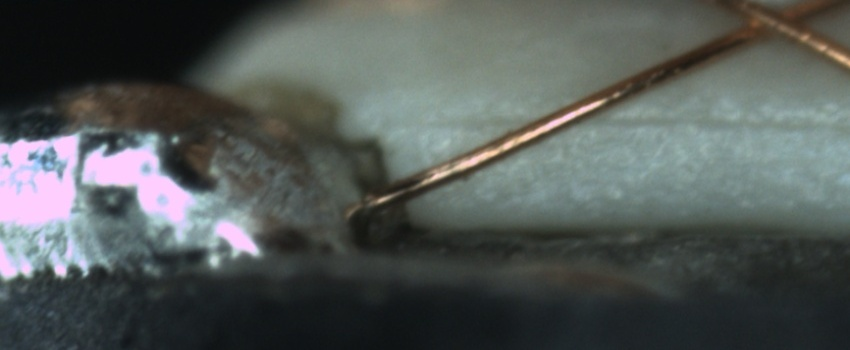CL: (717, 2, 831, 47)
DL: (418, 93, 850, 154)
